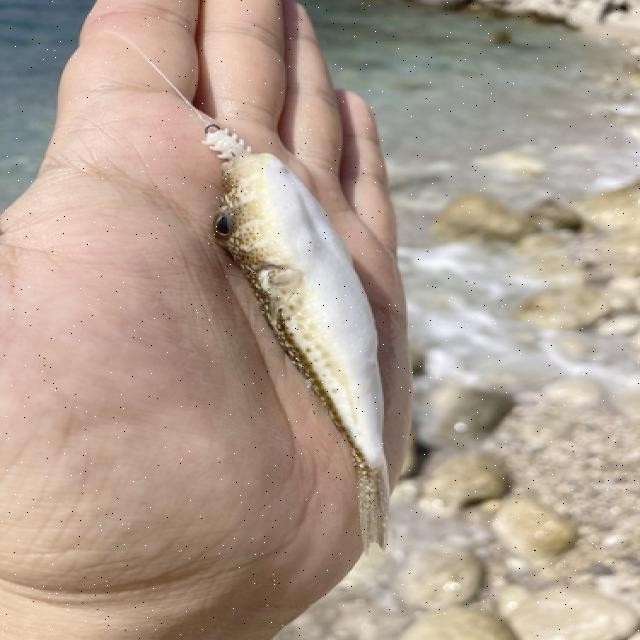Balik: (204, 126, 389, 549)
